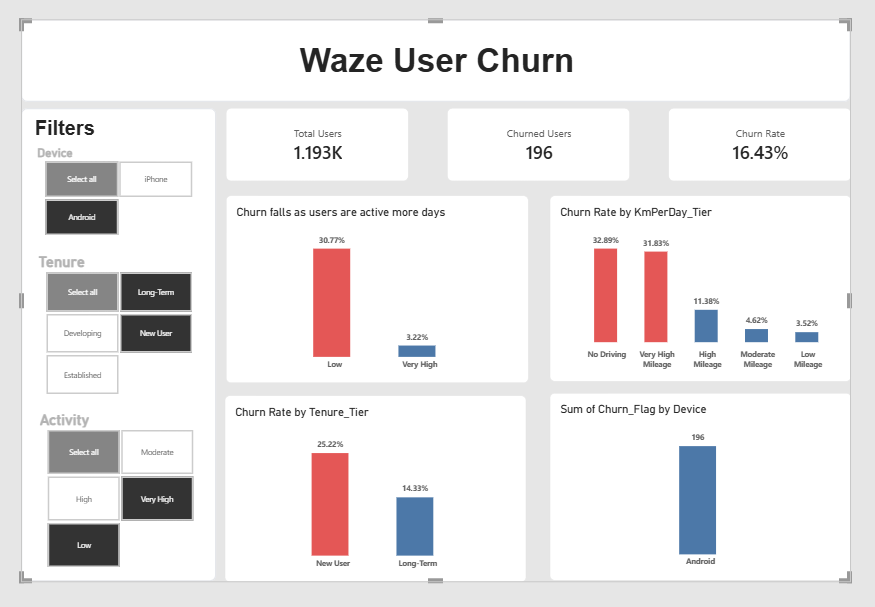

This screenshot's page, from the dashboard's own definition file:
{"tool":"powerbi","page":{"name":"Page 1","canvas":[1920,1080],"ordinal":0},"visuals":[{"type":"shape","box":[295.6,90.4,1327.5,132.5],"z":0,"group":"g1"},{"type":"shape","box":[295.6,231.6,312.5,757.5],"z":1000,"group":"g1"},{"type":"cardVisual","fields":{"Data":["Waze_Dataset.Total Users"]},"box":[623.1,231.6,292.5,117.5],"z":2000,"group":"g1"},{"type":"cardVisual","fields":{"Data":["Waze_Dataset.Churned Users"]},"box":[978.1,231.6,292.5,117.5],"z":3000,"group":"g1"},{"type":"cardVisual","fields":{"Data":["Waze_Dataset.Churn Rate"]},"box":[1330.6,231.6,292.5,117.5],"z":4000,"group":"g1"},{"type":"clusteredColumnChart","title":"Churn falls as users are active more days","fields":{"Category":["Waze_Dataset.Activity_Tier"],"Y":["Waze_Dataset.Churn Rate"]},"box":[622.6,371.6,484,300],"z":5000,"group":"g1"},{"type":"clusteredColumnChart","fields":{"Category":["Waze_Dataset.Tenure_Tier"],"Y":["Waze_Dataset.Churn Rate"]},"box":[620.6,691.6,482,298],"z":6000,"group":"g1"},{"type":"clusteredColumnChart","fields":{"Category":["Waze_Dataset.KmPerDay_Tier"],"Y":["Waze_Dataset.Churn Rate"]},"box":[1140.6,371.6,482.5,297.5],"z":7000,"group":"g1"},{"type":"clusteredColumnChart","fields":{"Category":["Waze_Dataset.Device"],"Y":["Sum(Waze_Dataset.Churn_Flag)"]},"box":[1140.6,689.2,482.5,300],"z":8000,"group":"g1"},{"type":"slicer","fields":{"Values":["Waze_Dataset.Device"]},"box":[313.1,291.6,275,145],"z":9000,"group":"g1"},{"type":"slicer","fields":{"Values":["Waze_Dataset.Tenure_Tier"]},"box":[315.6,464.2,272.5,227.5],"z":10000,"group":"g1"},{"type":"slicer","fields":{"Values":["Waze_Dataset.Activity_Tier"]},"box":[318.1,716.6,272.5,252.5],"z":11000,"group":"g1"},{"type":"textbox","title":"Waze User Churn","box":[296.8,126.6,1327.5,67.5],"z":12000,"group":"g1"},{"type":"textbox","box":[318,246,152,70],"z":13000,"group":"g1"},{"type":"group","id":"g1","title":"Group 1","box":[295.6,90.4,1328.8,899.2],"z":13001}]}

Visuals, with their boxes on the page's 1920x1080 design canvas (x1, y1, x2, y2). These are canvas units, not pixel positions in the 875x607 screenshot, which may show the page scaled, cropped or inside an application window:
shape: pyautogui.locateOnScreen(296, 90, 1623, 223)
shape: pyautogui.locateOnScreen(296, 232, 608, 989)
cardVisual - Waze_Dataset.Total Users: pyautogui.locateOnScreen(623, 232, 916, 349)
cardVisual - Waze_Dataset.Churned Users: pyautogui.locateOnScreen(978, 232, 1271, 349)
cardVisual - Waze_Dataset.Churn Rate: pyautogui.locateOnScreen(1331, 232, 1623, 349)
"Churn falls as users are active more days" clusteredColumnChart: pyautogui.locateOnScreen(623, 372, 1107, 672)
clusteredColumnChart - Waze_Dataset.Tenure_Tier x Waze_Dataset.Churn Rate: pyautogui.locateOnScreen(621, 692, 1103, 990)
clusteredColumnChart - Waze_Dataset.KmPerDay_Tier x Waze_Dataset.Churn Rate: pyautogui.locateOnScreen(1141, 372, 1623, 669)
clusteredColumnChart - Waze_Dataset.Device x Sum(Waze_Dataset.Churn_Flag): pyautogui.locateOnScreen(1141, 689, 1623, 989)
slicer - Waze_Dataset.Device: pyautogui.locateOnScreen(313, 292, 588, 437)
slicer - Waze_Dataset.Tenure_Tier: pyautogui.locateOnScreen(316, 464, 588, 692)
slicer - Waze_Dataset.Activity_Tier: pyautogui.locateOnScreen(318, 717, 591, 969)
"Waze User Churn" textbox: pyautogui.locateOnScreen(297, 127, 1624, 194)
textbox: pyautogui.locateOnScreen(318, 246, 470, 316)
"Group 1" group: pyautogui.locateOnScreen(296, 90, 1624, 990)
